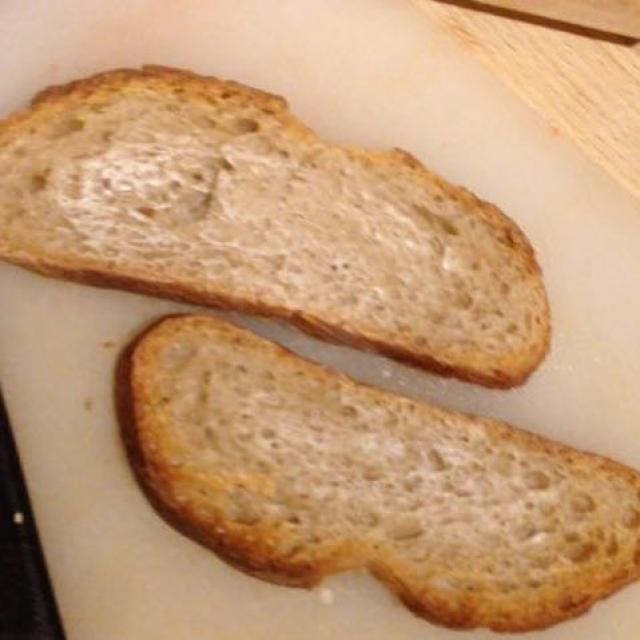bread-wholemeal: (1, 61, 550, 373), (114, 330, 634, 614)
